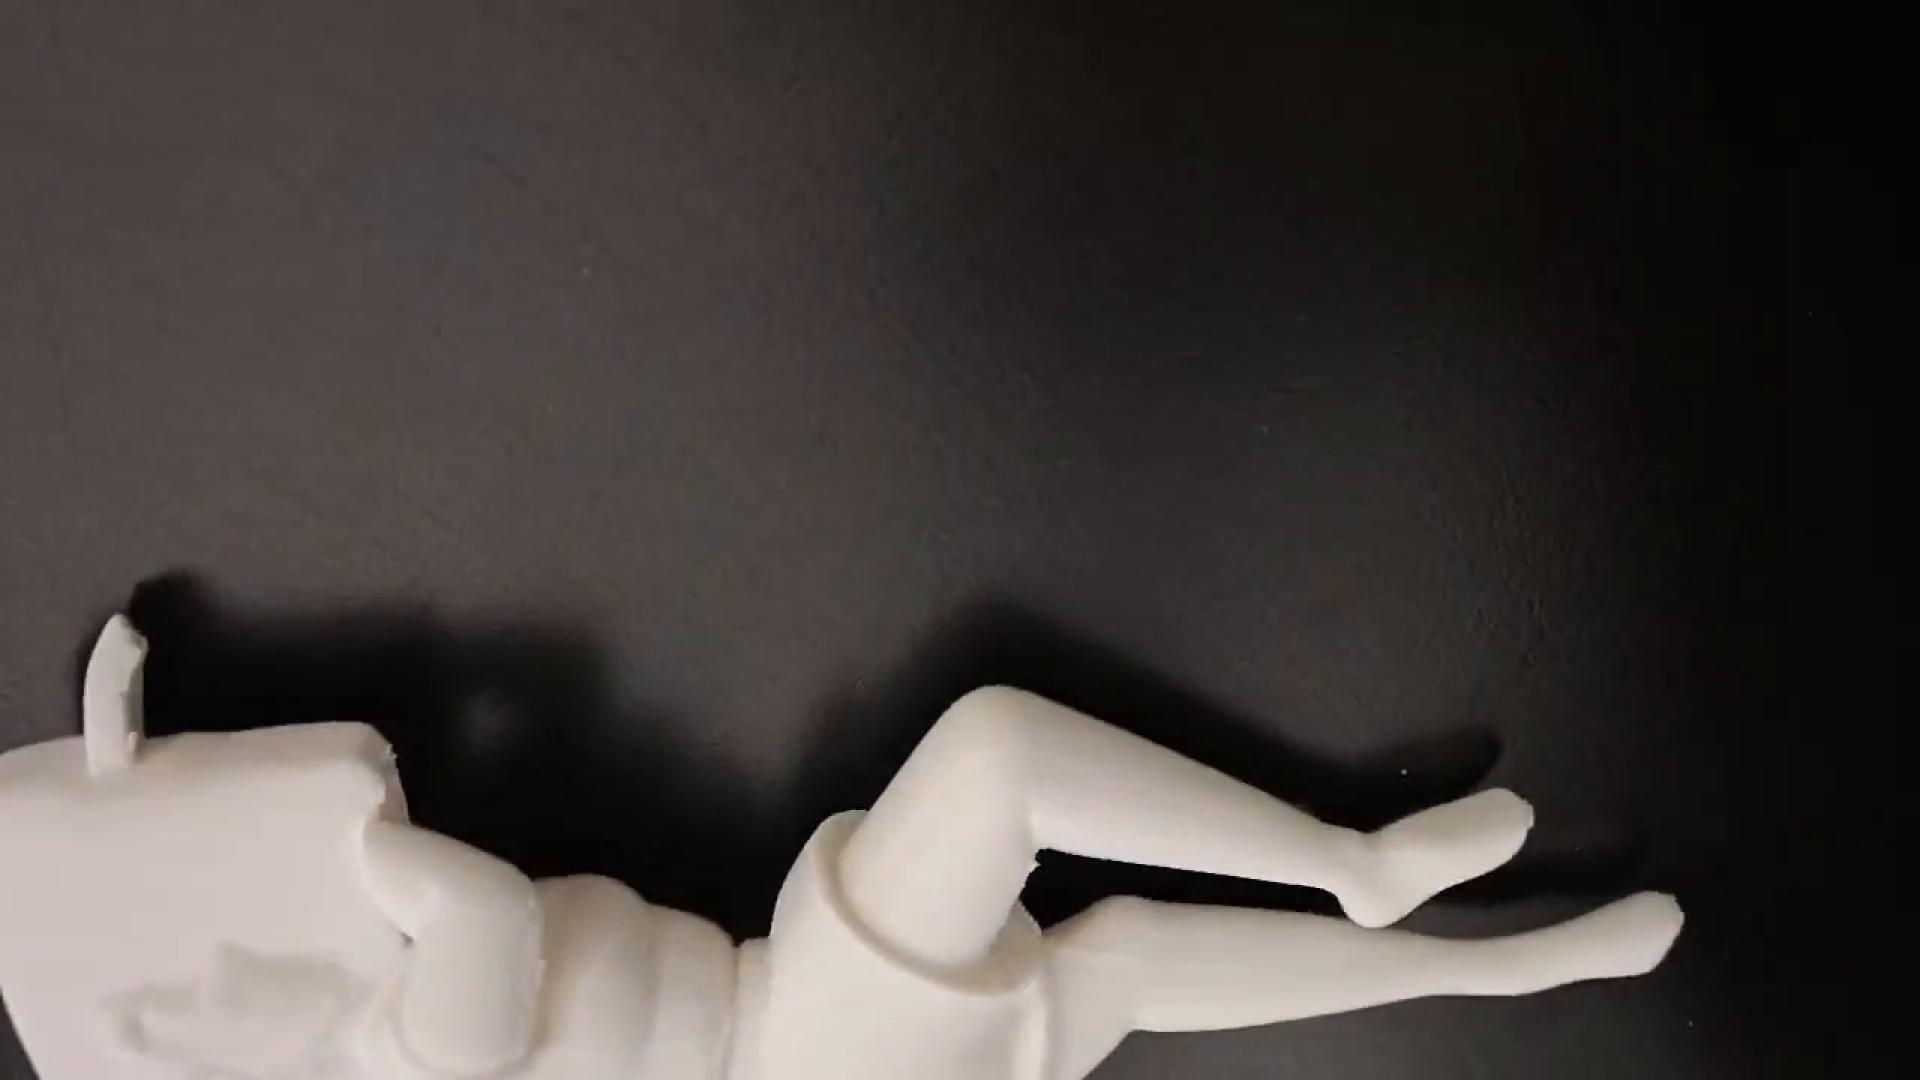Good-style: (1, 603, 1701, 1080)
